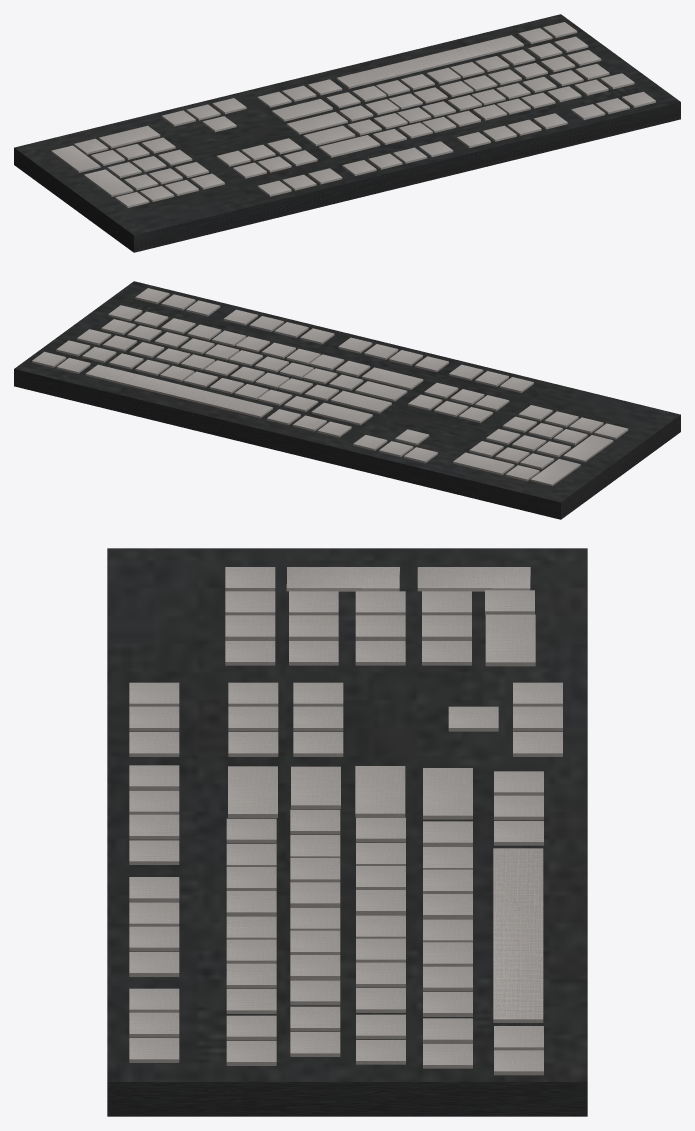
File: keyboard one.fbx
3 renders of one model, top to bottom at view 1: azimuth 30°, elevation 25°; view 2: azimuth 150°, elevation 25°; view 3: azimuth 270°, elevation 25°, orthographic. The views are drawn at different scales.
Parts seen in each view (by area): view 1: Cube, Cube.086, Cube.036, Cube.049, Cube.083, Cube.084, Cube.037, Cube.038, Cube.085; view 2: Cube, Cube.086, Cube.049, Cube.083, Cube.084, Cube.036, Cube.037, Cube.038, Cube.085; view 3: Cube, Cube.086, Cube.037, Cube.038, Cube.036, Cube.084, Cube.049, Cube.083, Cube.085, Cube.004, Cube.007, Cube.009 (+80 smaller).
Boxes of the visible parts, x1,y1,x2,y2 form: Cube: (14, 14, 680, 252); Cube.086: (336, 35, 523, 88); Cube.036: (99, 125, 160, 148); Cube.049: (319, 135, 380, 157); Cube.083: (271, 99, 332, 121); Cube.084: (286, 112, 347, 134); Cube.037: (84, 169, 133, 196); Cube.038: (51, 145, 100, 172); Cube.085: (303, 125, 355, 145); Cube: (14, 281, 680, 519); Cube.086: (85, 364, 272, 418); Cube.049: (362, 367, 423, 390); Cube.083: (311, 402, 372, 425); Cube.084: (330, 390, 391, 413); Cube.036: (453, 452, 514, 475); Cube.037: (563, 435, 613, 462); Cube.038: (530, 459, 580, 486); Cube.085: (355, 381, 407, 401); Cube: (107, 548, 587, 1116); Cube.086: (493, 848, 543, 1022); Cube.037: (286, 567, 399, 591); Cube.038: (417, 567, 530, 591); Cube.036: (485, 614, 535, 666); Cube.084: (355, 766, 405, 817); Cube.049: (228, 766, 277, 817); Cube.083: (423, 768, 472, 819); Cube.085: (291, 766, 340, 808); Cube.004: (129, 926, 179, 951); Cube.007: (129, 814, 179, 839); Cube.009: (129, 765, 179, 790).
Bounding box in the file's own units: 202 × 6.82 × 76.94.
